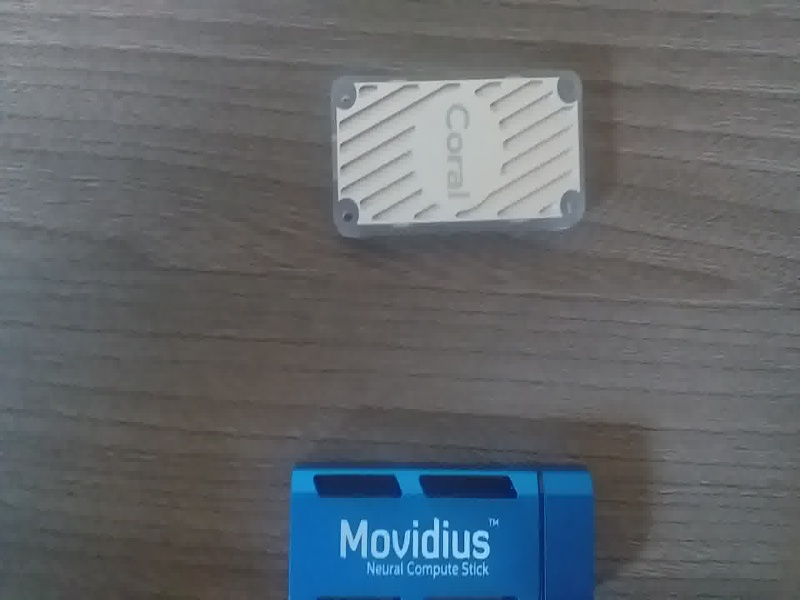coral: (317, 66, 596, 250)
movidius: (279, 452, 611, 600)
